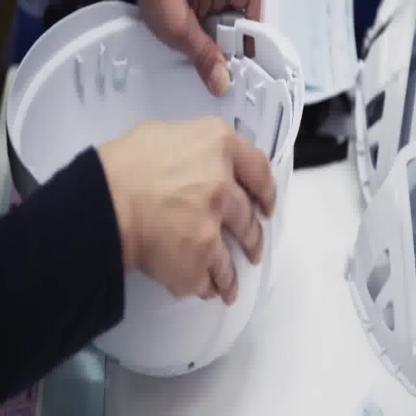helmet: (5, 0, 306, 382)
